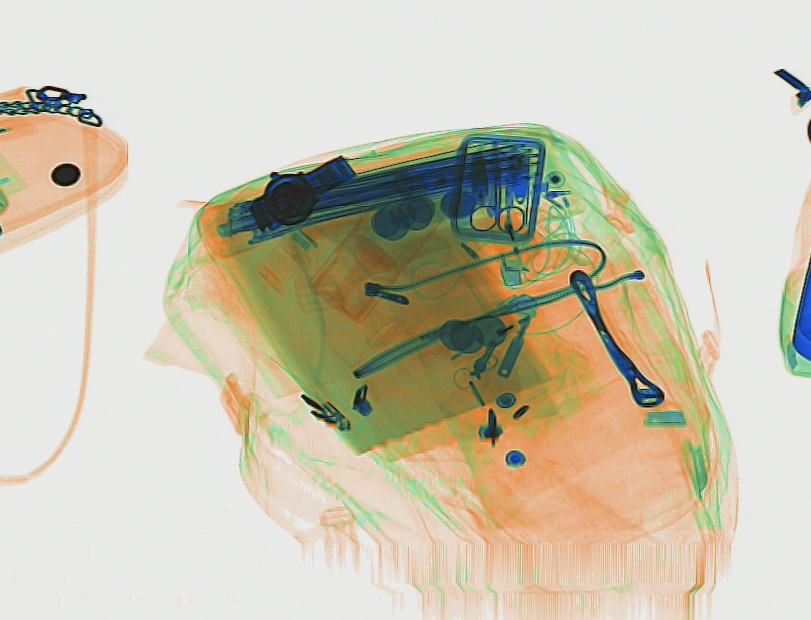lighter: (444, 293, 538, 356), (481, 186, 530, 288)
scissors: (467, 148, 526, 235)
